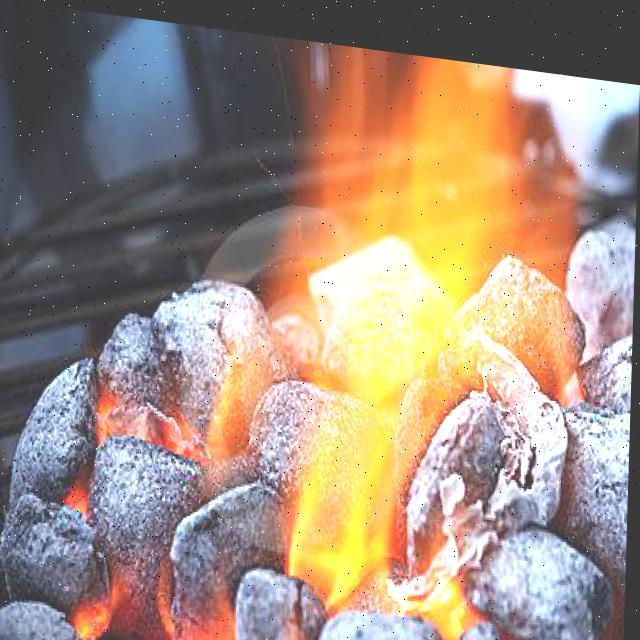Fire: (200, 24, 594, 628), (92, 370, 199, 466), (156, 552, 251, 639), (70, 550, 153, 639)
